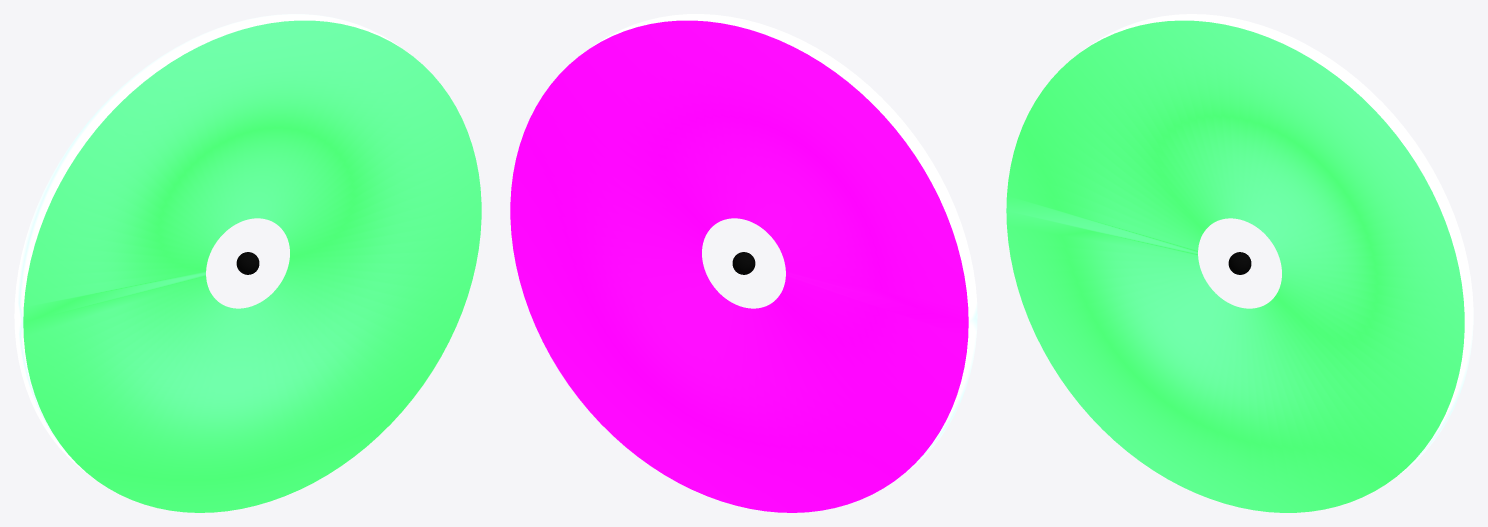
Rendered from PIKACHU2.fbx.
3 views of the same model, side by side, from view 1: azimuth 30°, elevation 25°; view 2: azimuth 150°, elevation 25°; view 3: azimuth 330°, elevation 25° (orthographic).
Parts seen in each view (by area): view 1: Cube; view 2: Cube; view 3: Cube.
Part boxes in pixels (left/top/right/bottom): Cube: left=14, top=14, right=481, bottom=512; Cube: left=510, top=14, right=977, bottom=512; Cube: left=1006, top=14, right=1473, bottom=512.
Size of the model in its own units: 45.56 by 45.57 by 1.97.
